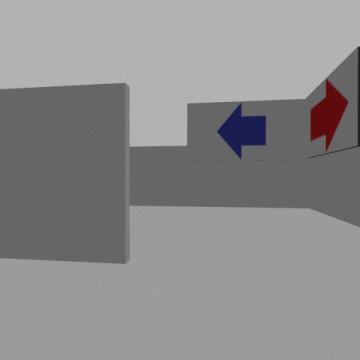blue_left: (218, 103, 266, 158)
red_right: (310, 79, 348, 152)
